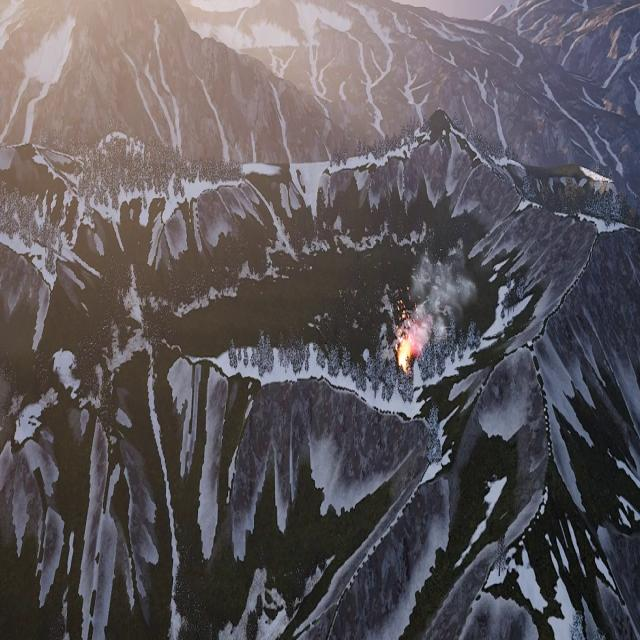fire: (396, 339, 412, 373)
smoke: (405, 246, 474, 346)
